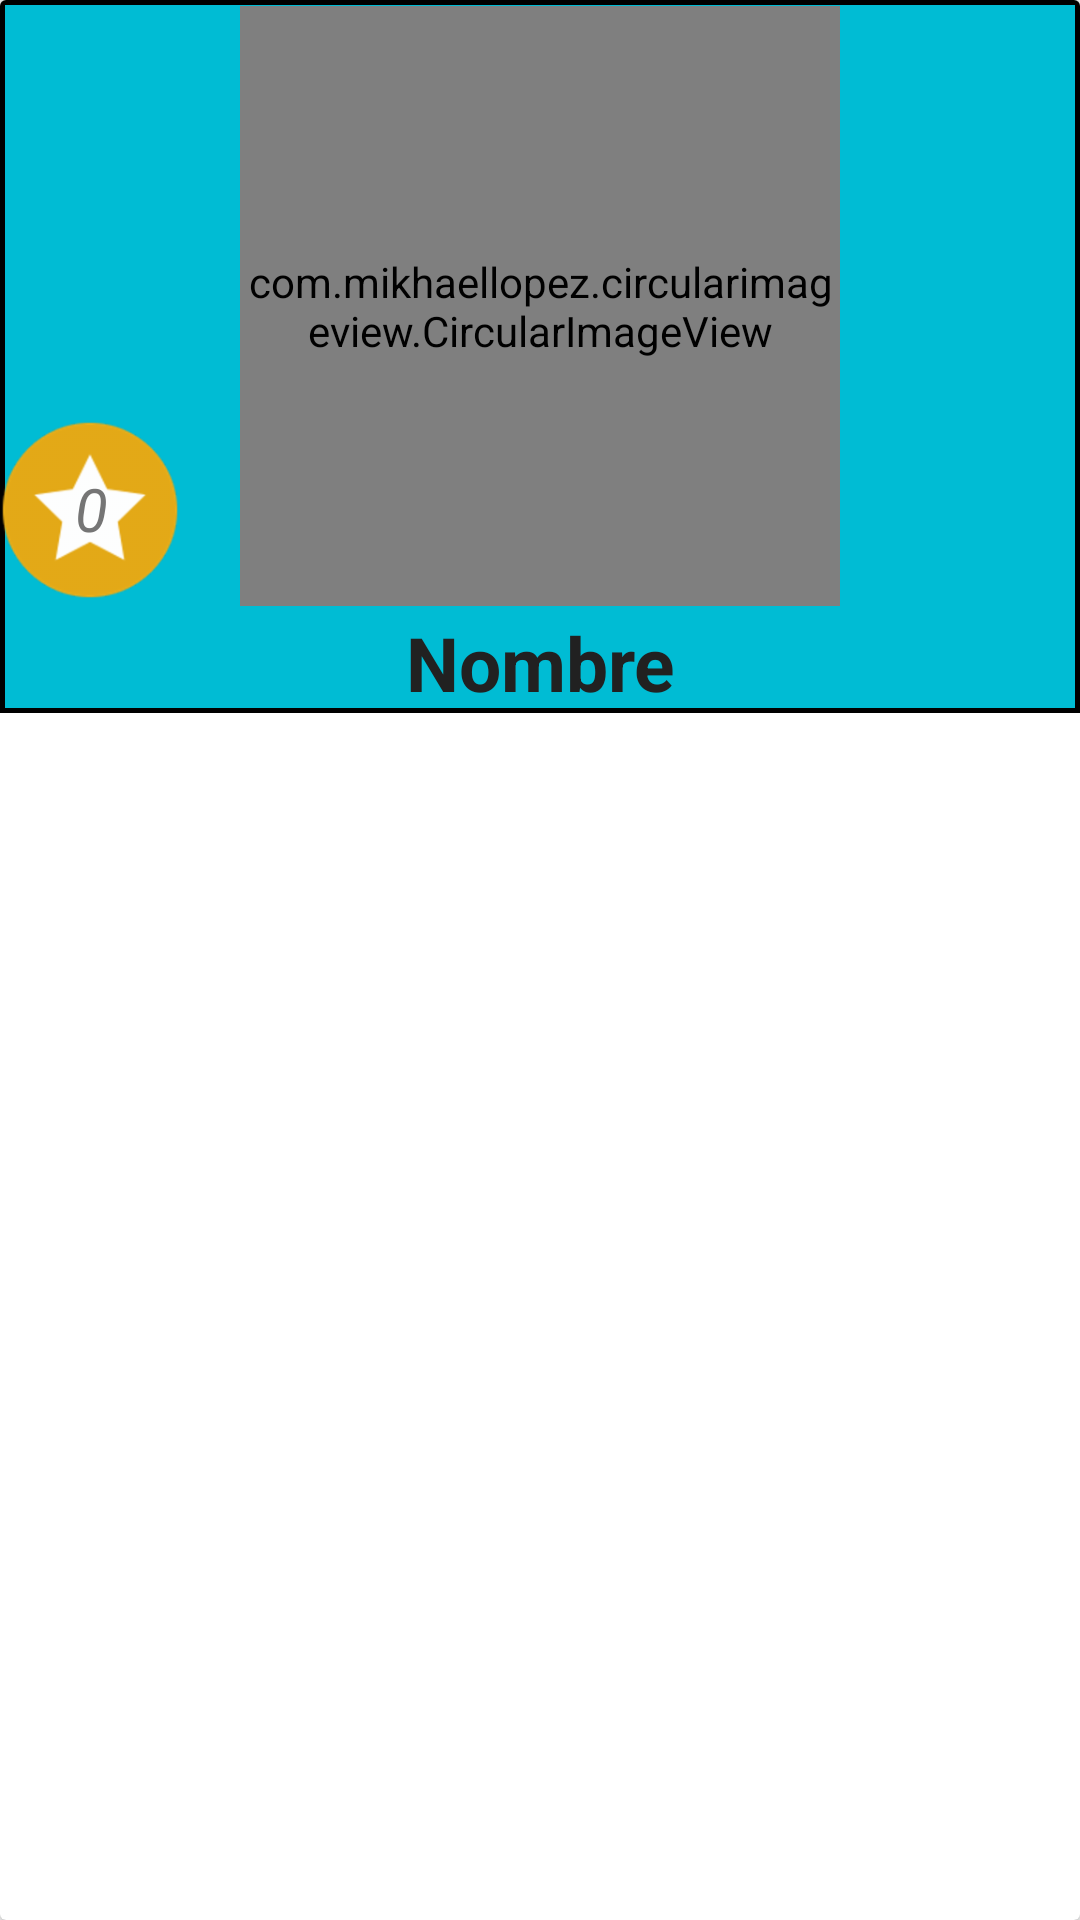

Point at icon controls on the screen. Image size 1080px x 1920px, points as point (x, y).
estrellafavs: point (89, 510)
